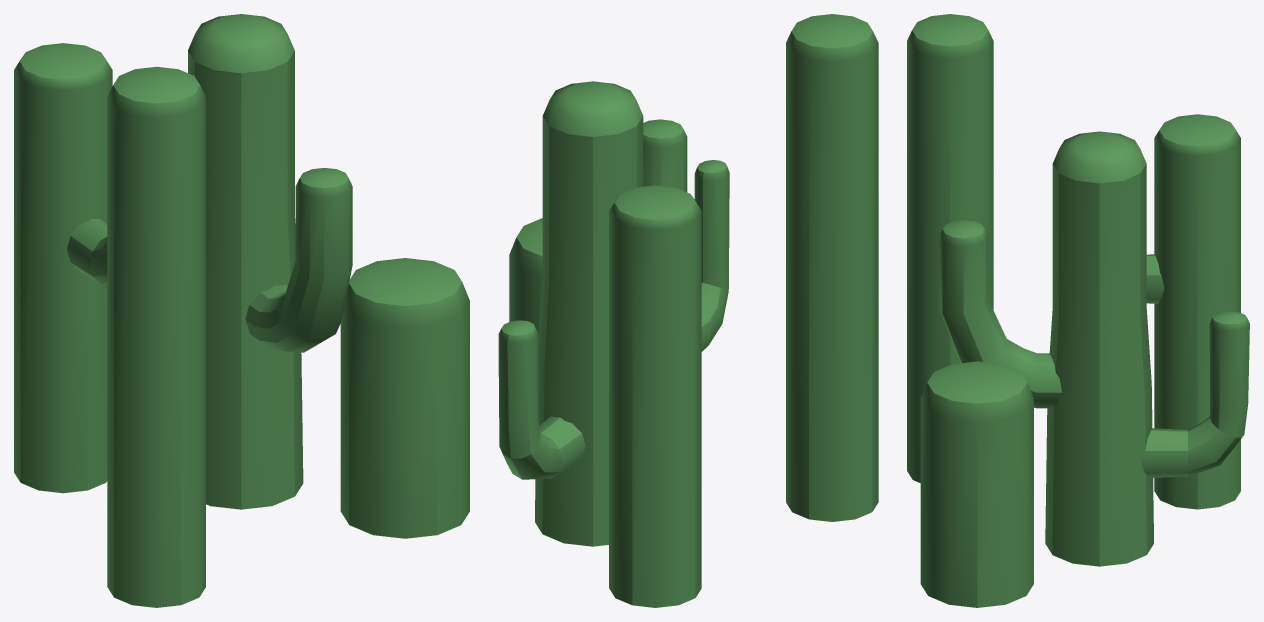
The model's file is cactus.fbx.
The picture shows the model from 3 angles, left to right: view 1: azimuth 30°, elevation 25°; view 2: azimuth 150°, elevation 25°; view 3: azimuth 270°, elevation 25°; orthographic projection. The views are drawn at different scales.
Visible parts, largest first — view 1: cactus; view 2: cactus; view 3: cactus.
Boxes of the visible parts, bbox=[...] form: cactus: bbox=[14, 14, 469, 607]; cactus: bbox=[498, 14, 878, 607]; cactus: bbox=[907, 14, 1249, 607].
Bounding box in the file's own units: 2.28 × 3.05 × 2.13.
